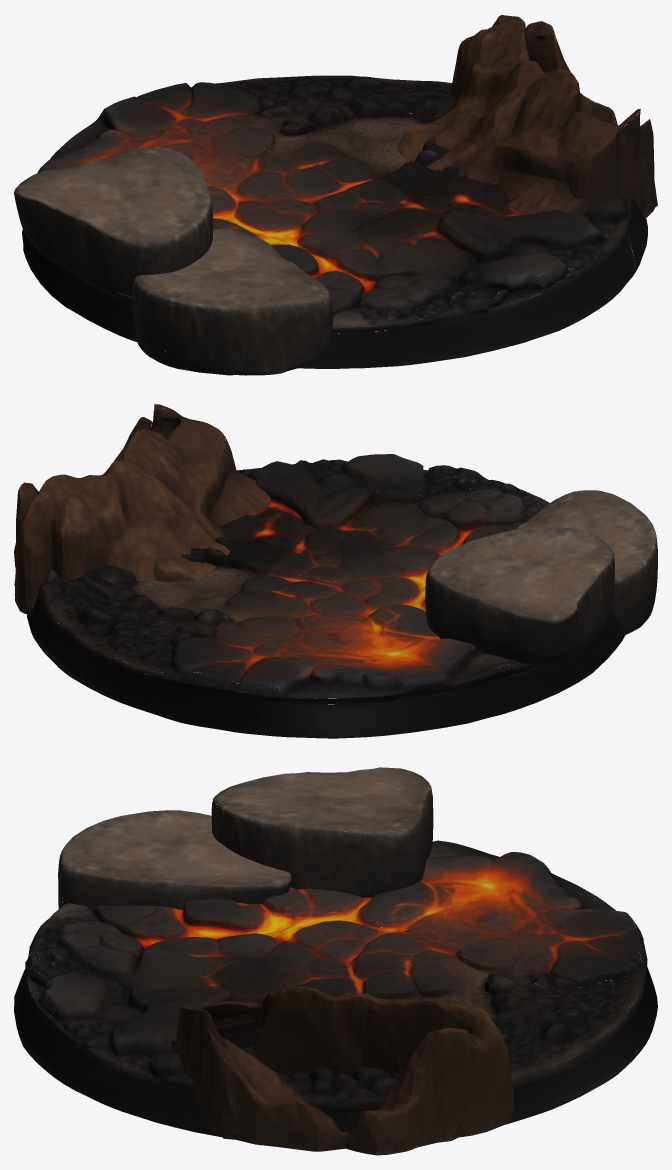
Rendered from Peak_minimap.glb.
3 renders of one model, top to bottom at view 1: azimuth 30°, elevation 25°; view 2: azimuth 150°, elevation 25°; view 3: azimuth 270°, elevation 25°, orthographic. The views are drawn at different scales.
Parts seen in each view (by area): view 1: world; view 2: world; view 3: world.
Boxes of the visible parts, x1,y1,x2,y2 form: world: [14, 15, 657, 375]; world: [14, 404, 657, 738]; world: [14, 767, 657, 1155].
Bounding box in the file's own units: 1.07 × 0.2267 × 0.9745.
Materials: 3 (3 with a texture image).
